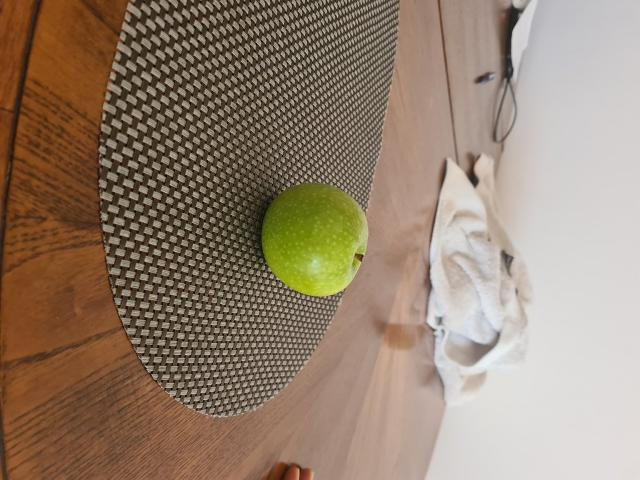apple: (261, 192, 373, 286)
